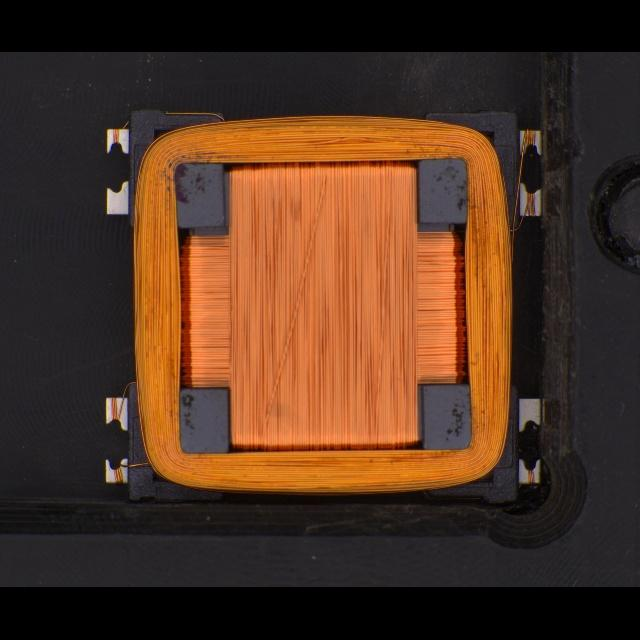Winding_Z: (120, 109, 521, 502)
